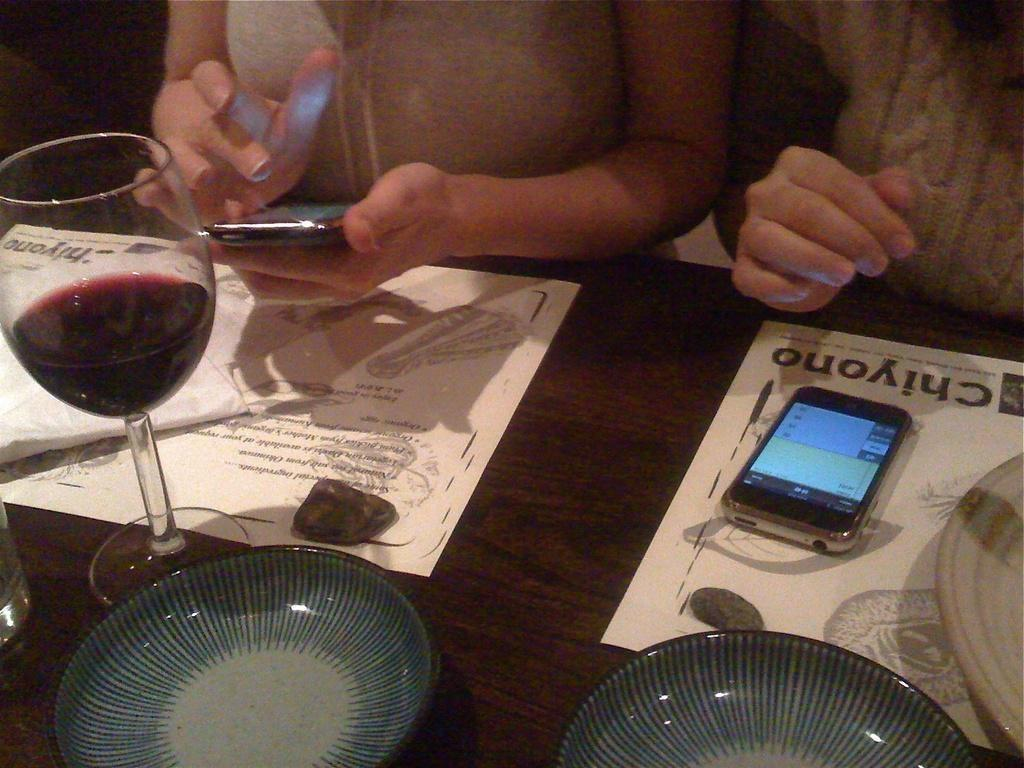glass-wine: (0, 133, 250, 612)
